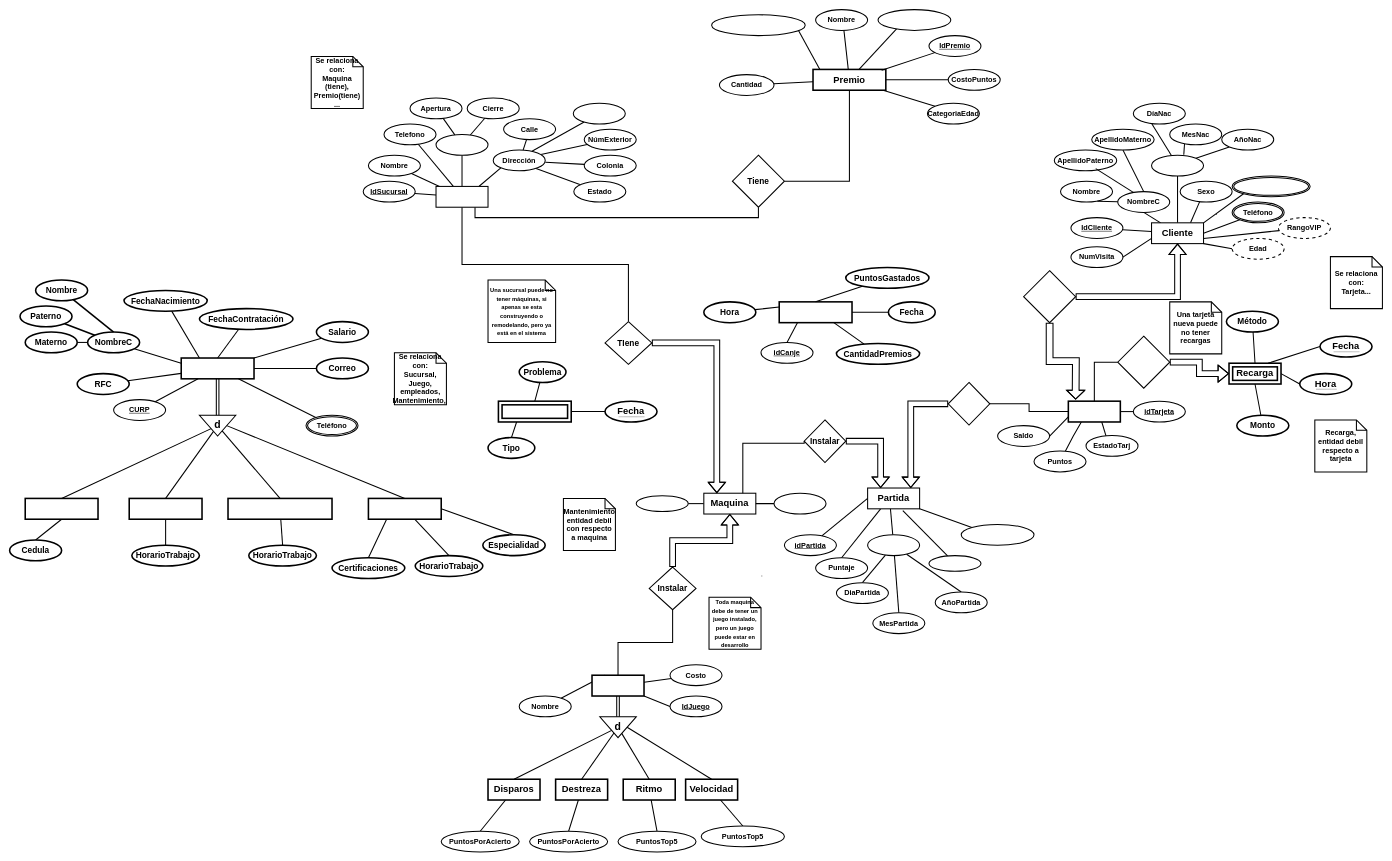
Some shapes in this 1392 by 861 pixel diagram are drawn without their labels. The shapes that lost their labels are listed below. From the top down, each one's centre as x and y in pixels, then its label:
At point (758, 25): "ValorAproximado".
At point (914, 20): "CategoriaPuntos".
At point (599, 113): "NúmInterior".
At point (461, 144): "Horario".
At point (1177, 165): "FechaNac".
At point (461, 196): "Sucursal".
At point (1270, 186): "CorreoElectronico".
At point (815, 312): "Canje".
At point (1049, 296): "Registrar".
At point (217, 368): "Empleado".
At point (1143, 361): "Realiza".
At point (534, 411): "Mantenimiento".
At point (968, 403): "Jugar".
At point (1094, 411): "Tarjeta".
At point (61, 508): "Gerente".
At point (165, 508): "Cajero".
At point (280, 508): "EncargadoPremios".
At point (404, 508): "Técnico".
At point (661, 503): "IdMaquina".
At point (799, 503): "EstadoMaq".
At point (893, 545): "FechaPartida".
At point (997, 534): "PuntosObtenidos".
At point (954, 563): "HoraFin".
At point (618, 685): "Juego".
